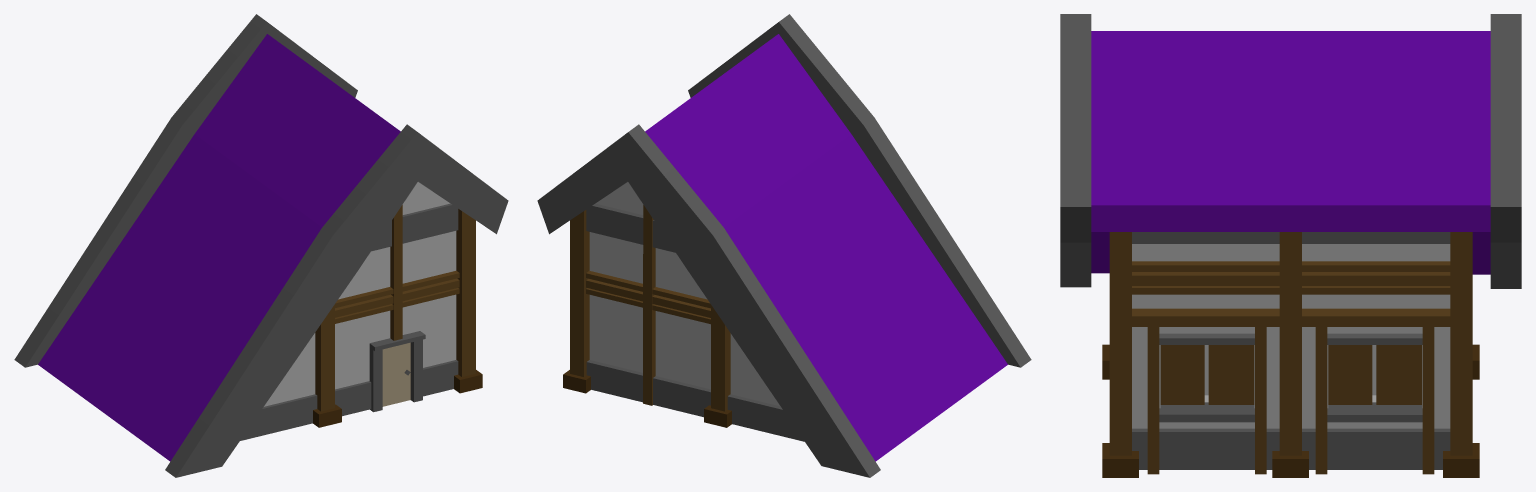
File: Mesh_Royal_Ramp_Hos_side.fbx
3 renders of one model, left to right at view 1: azimuth 30°, elevation 25°; view 2: azimuth 150°, elevation 25°; view 3: azimuth 270°, elevation 25°, orthographic. The views are drawn at different scales.
Parts seen in each view (by area): view 1: Royal_Ramp_Hos_side; view 2: Royal_Ramp_Hos_side; view 3: Royal_Ramp_Hos_side.
Boxes of the visible parts, x1,y1,x2,y2 form: Royal_Ramp_Hos_side: [14, 14, 508, 477]; Royal_Ramp_Hos_side: [537, 14, 1031, 477]; Royal_Ramp_Hos_side: [1060, 14, 1521, 477].
Bounding box in the file's own units: 1179 × 973 × 990.
